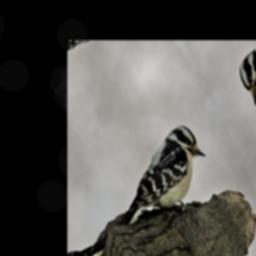Woodpecker: (99, 114, 225, 256)
